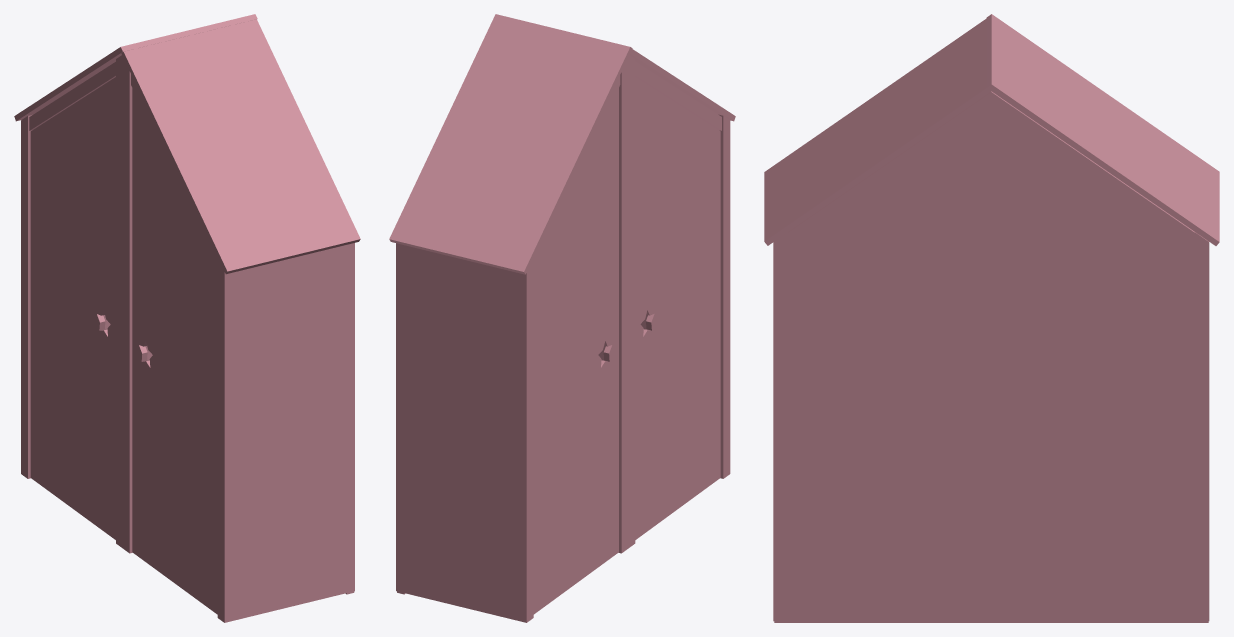
File: Furn2_chest_right_color2_joined.fbx
The picture shows the model from 3 angles, left to right: view 1: azimuth 30°, elevation 25°; view 2: azimuth 150°, elevation 25°; view 3: azimuth 270°, elevation 25°; orthographic projection. The views are drawn at different scales.
Parts seen in each view (by area): view 1: Куб.148; view 2: Куб.148; view 3: Куб.148.
Part boxes in pixels (x1,y1,x2,y2): Куб.148: [14, 14, 360, 622]; Куб.148: [389, 14, 735, 622]; Куб.148: [764, 14, 1219, 622].
Bounding box in the file's own units: 124 × 442 × 338.
